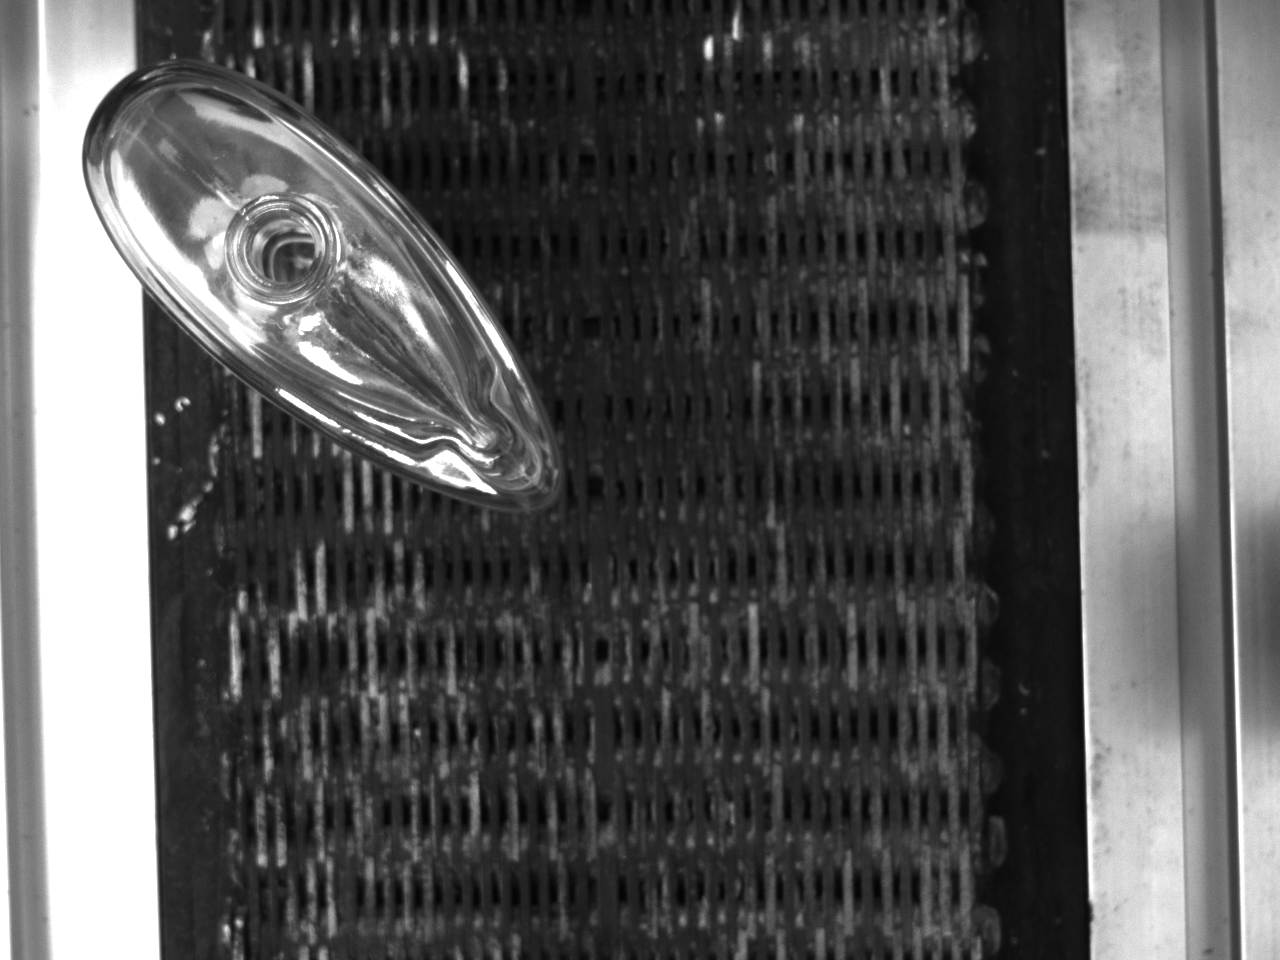bottleneck: (226, 194, 336, 302)
